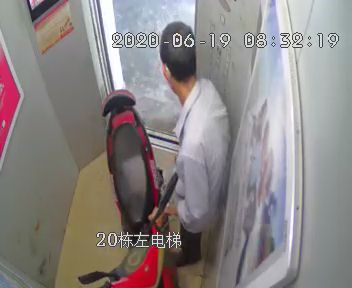Electric-bicycle: (77, 91, 182, 286)
